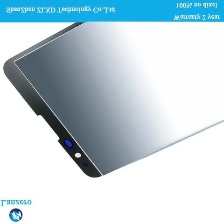phone: (0, 0, 224, 181)
